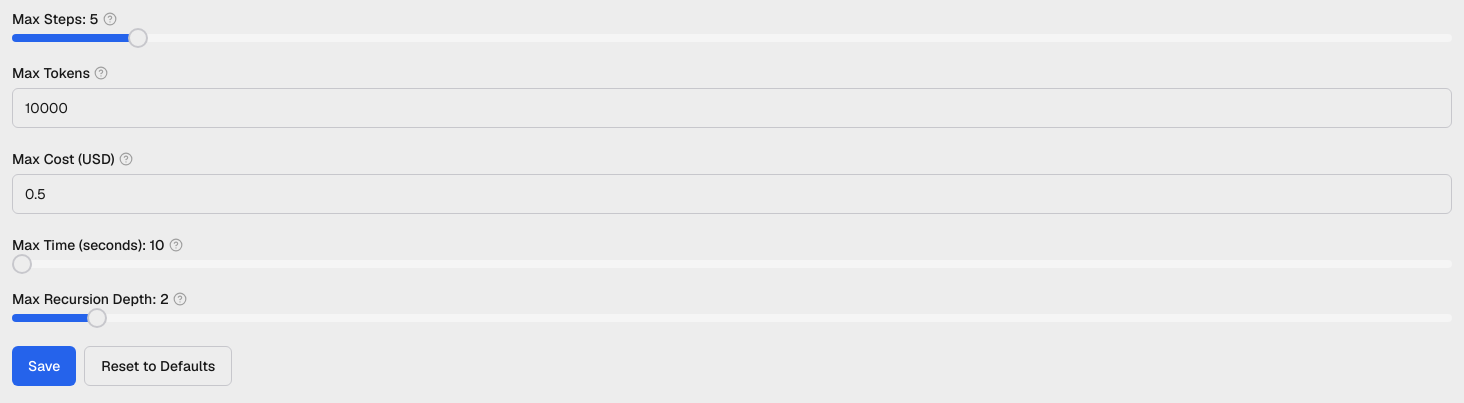
Scenario: BudgetConfig › Reset to Defaults updates displayed values
Click the button "Reset to Defaults" at coordinates (158, 366), box [84, 346, 232, 386]
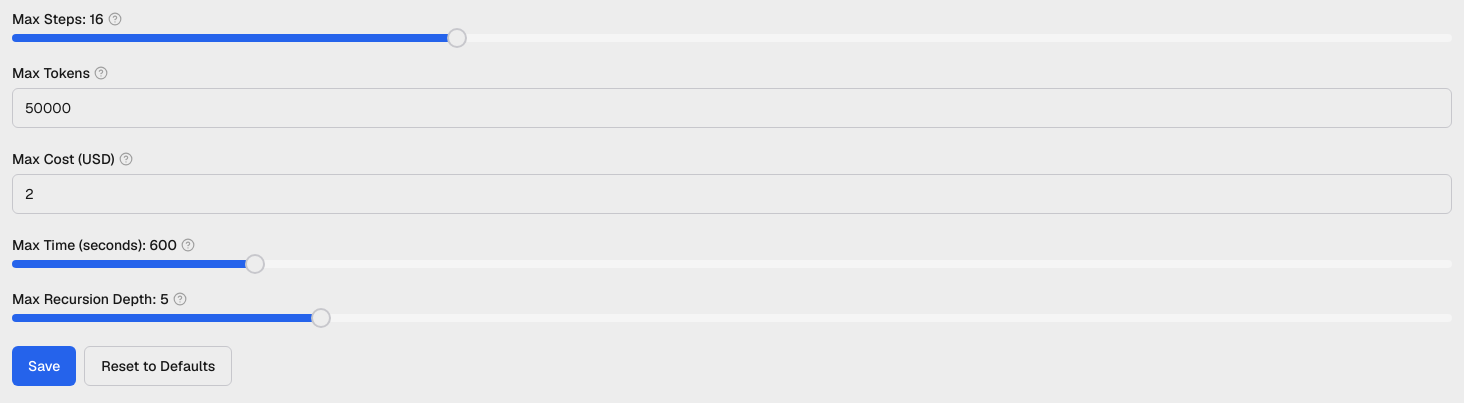
Result: the number field labelled "Max Tokens" holds "50000" at [12, 88, 1452, 128]
